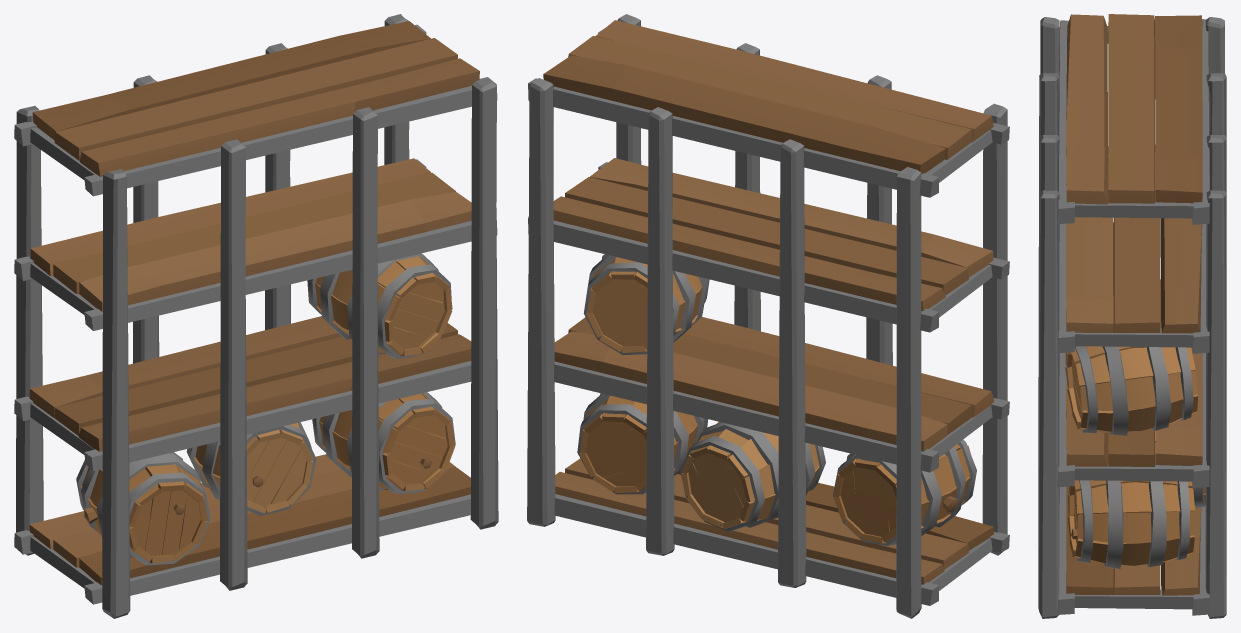
The model's file is Barrel_Cabinet_A.fbx.
The picture shows the model from 3 angles, left to right: view 1: azimuth 30°, elevation 25°; view 2: azimuth 150°, elevation 25°; view 3: azimuth 270°, elevation 25°; orthographic projection. The views are drawn at different scales.
Parts seen in each view (by area): view 1: Barrel_Cabinet_A; view 2: Barrel_Cabinet_A; view 3: Barrel_Cabinet_A.
Boxes of the visible parts, x1=… form: Barrel_Cabinet_A: x1=14, y1=14, x2=498, y2=618; Barrel_Cabinet_A: x1=527, y1=14, x2=1009, y2=618; Barrel_Cabinet_A: x1=1038, y1=14, x2=1226, y2=618.
Size of the model in its own units: 321 by 341 by 135.
